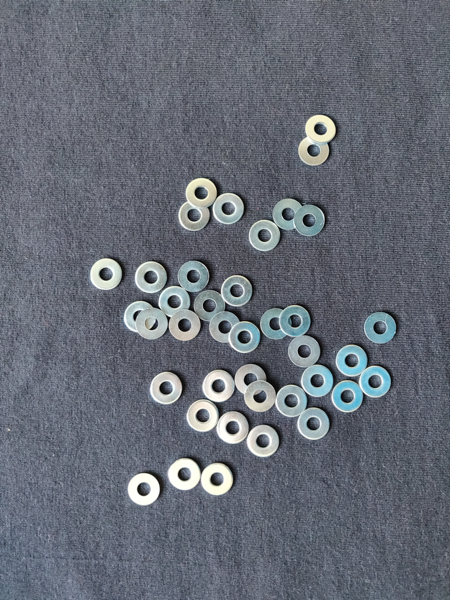circle: (201, 461, 237, 498), (166, 456, 202, 493), (185, 399, 220, 436), (126, 471, 163, 506), (183, 175, 221, 209), (212, 191, 248, 226), (287, 334, 322, 370), (90, 256, 124, 293), (134, 259, 168, 296), (297, 406, 330, 444), (271, 196, 306, 231), (279, 304, 314, 339), (245, 423, 280, 458), (364, 309, 398, 345), (358, 364, 392, 400), (301, 362, 334, 399), (209, 310, 243, 345), (148, 371, 183, 405), (233, 364, 268, 398), (192, 290, 228, 323), (244, 380, 278, 414), (294, 203, 327, 238), (220, 275, 255, 308), (178, 259, 211, 294), (135, 308, 170, 341), (276, 384, 307, 421), (249, 218, 282, 252), (178, 199, 212, 232), (158, 284, 191, 318), (333, 379, 365, 414), (202, 371, 237, 403), (217, 411, 249, 446), (298, 133, 331, 166), (122, 301, 156, 333), (260, 308, 292, 342), (337, 344, 369, 378), (228, 321, 260, 354), (169, 310, 201, 341), (305, 115, 337, 145)
